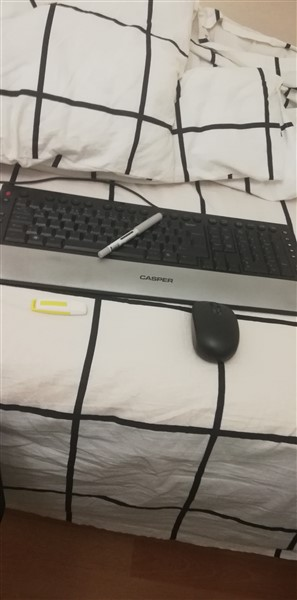flash disk: (34, 292, 91, 321)
klavye: (2, 176, 297, 317)
mouse: (184, 292, 243, 366)
pilot kalem: (93, 208, 164, 260)
